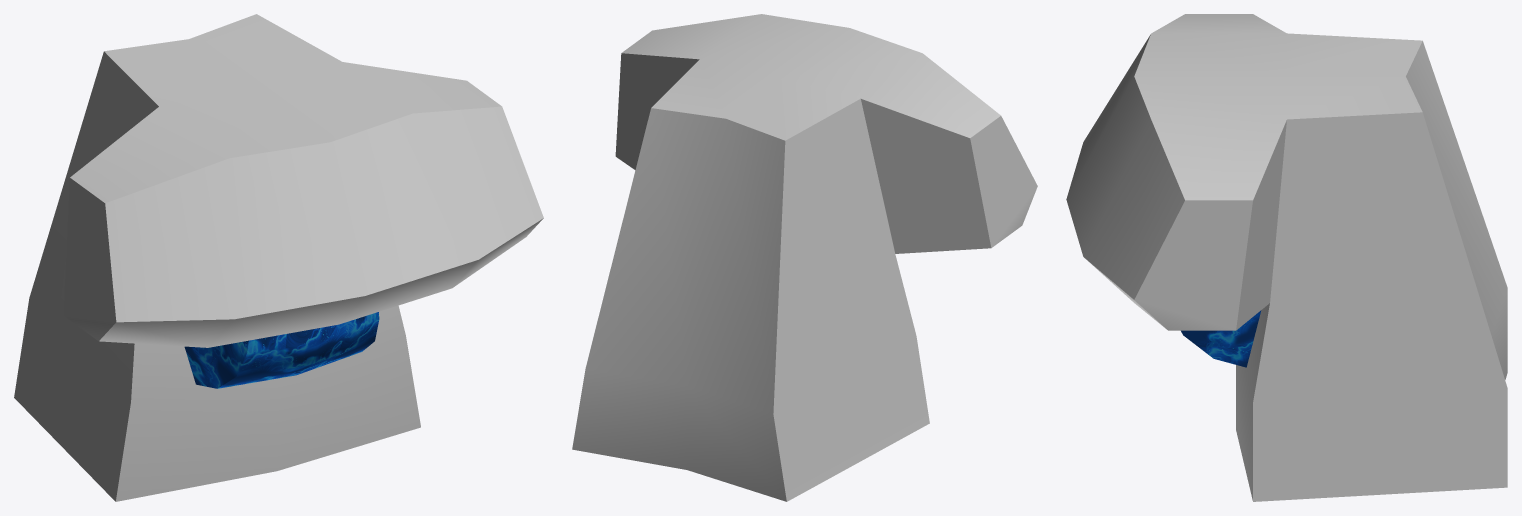
Rendered from dbruin02.FBX.
3 views of the same model, side by side, from view 1: azimuth 30°, elevation 25°; view 2: azimuth 150°, elevation 25°; view 3: azimuth 270°, elevation 25° (orthographic). The views are drawn at different scales.
Visible parts, largest first — view 1: dbruin02, covr__2e; view 2: dbruin02; view 3: dbruin02, covr__2e.
Part boxes in pixels (box(x1,y1,x2,y2)): dbruin02: box(14, 14, 543, 501); covr__2e: box(184, 312, 379, 388); dbruin02: box(572, 14, 1037, 501); dbruin02: box(1066, 14, 1507, 501); covr__2e: box(1181, 310, 1261, 367).
Size of what is drawn, in the model's own units: 28 by 23 by 26.
